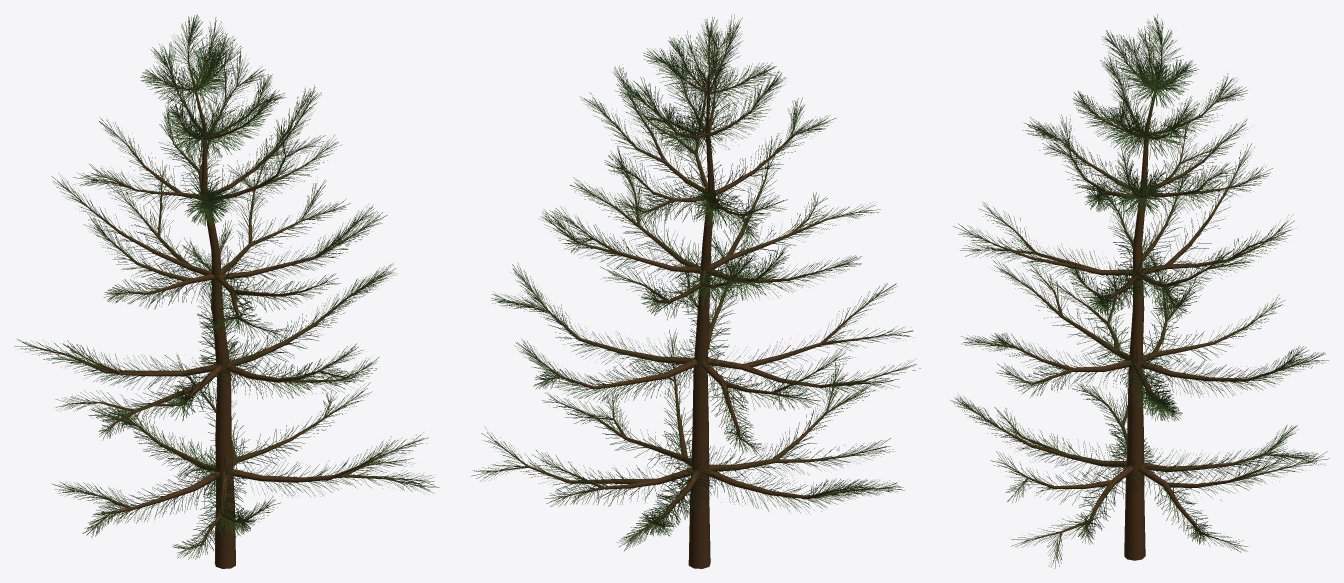
Rendered from tree2.fbx.
3 views of the same model, side by side, from view 1: azimuth 30°, elevation 25°; view 2: azimuth 150°, elevation 25°; view 3: azimuth 270°, elevation 25° (orthographic). The views are drawn at different scales.
Visible parts, largest first — view 1: leaves.001, tree.001; view 2: leaves.001, tree.001; view 3: leaves.001, tree.001.
Boxes of the visible parts, x1,y1,x2,y2 form: leaves.001: [14, 14, 439, 559]; tree.001: [30, 31, 422, 568]; leaves.001: [471, 14, 920, 551]; tree.001: [486, 32, 899, 568]; leaves.001: [950, 14, 1329, 568]; tree.001: [967, 31, 1312, 560].
Size of the model in its own units: 649 by 925 by 602.
